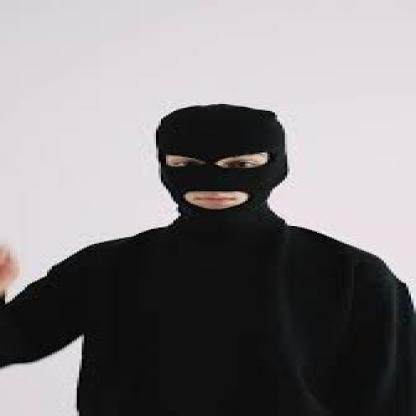criminal: (0, 103, 416, 416)
